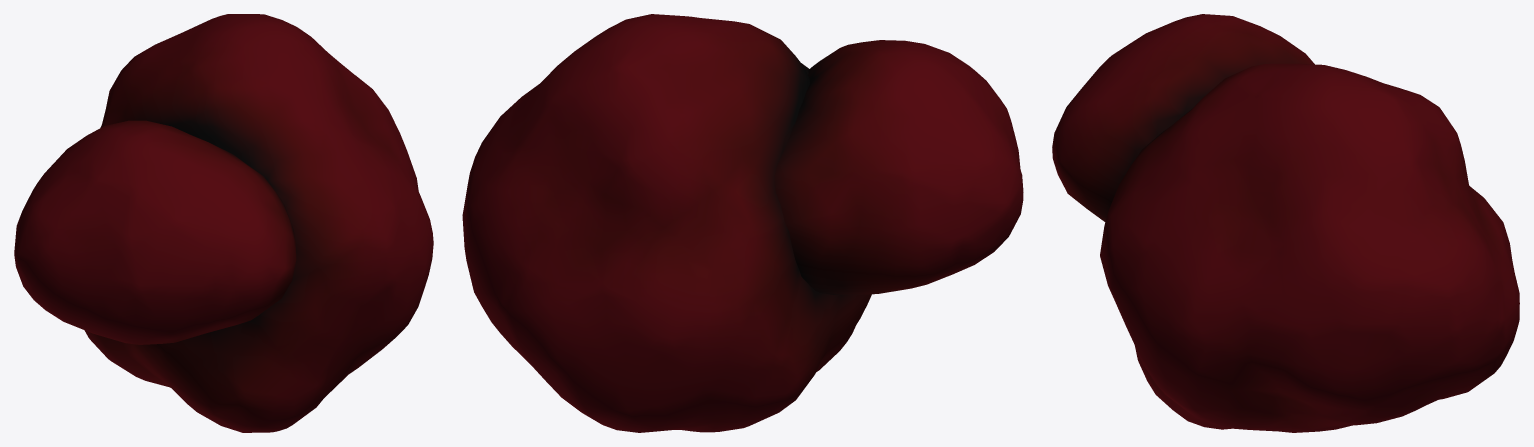
File: TEC1.fbx
3 views of the same model, side by side, from view 1: azimuth 30°, elevation 25°; view 2: azimuth 150°, elevation 25°; view 3: azimuth 270°, elevation 25° (orthographic). The views are drawn at different scales.
Parts seen in each view (by area): view 1: chain_E_surface, chain_I_surface; view 2: chain_E_surface, chain_I_surface; view 3: chain_E_surface, chain_I_surface.
Boxes of the visible parts, box(x1,y1,x2,y2) form: chain_E_surface: box(84, 14, 433, 432); chain_I_surface: box(14, 120, 296, 344); chain_E_surface: box(462, 14, 871, 432); chain_I_surface: box(774, 40, 1023, 294); chain_E_surface: box(1100, 63, 1519, 432); chain_I_surface: box(1052, 14, 1314, 221).
Bounding box in the file's own units: 68.83 × 54.72 × 63.24.
